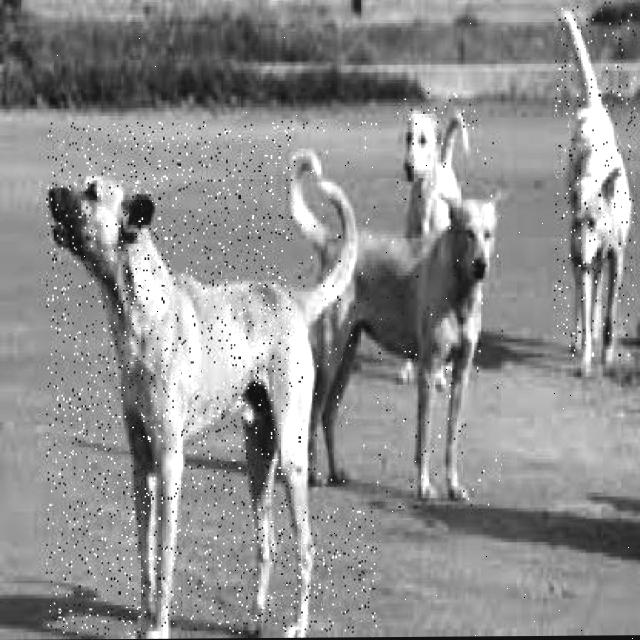Dog: (46, 120, 380, 637), (292, 130, 505, 510), (553, 0, 638, 359), (393, 92, 481, 237)
